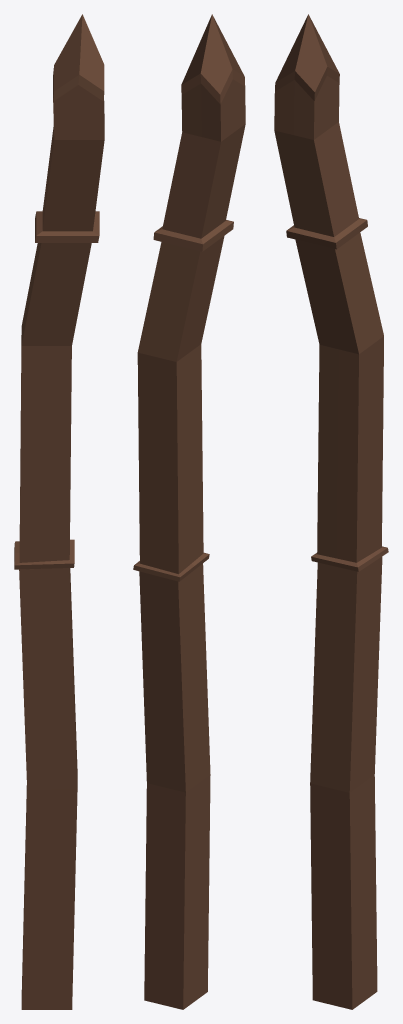
The model's file is Zaostrzony kij.fbx.
The picture shows the model from 3 angles, left to right: view 1: azimuth 90°, elevation 25°; view 2: azimuth 150°, elevation 25°; view 3: azimuth 330°, elevation 25°; orthographic projection. The views are drawn at different scales.
Visible parts, largest first — view 1: Pochiodnia; view 2: Pochiodnia; view 3: Pochiodnia.
Part boxes in pixels (<box>): Pochiodnia: <box>14,14,104,1009</box>; Pochiodnia: <box>133,14,245,1009</box>; Pochiodnia: <box>274,14,388,1009</box>.
Bounding box in the file's own units: 48.77 × 663 × 54.54.
